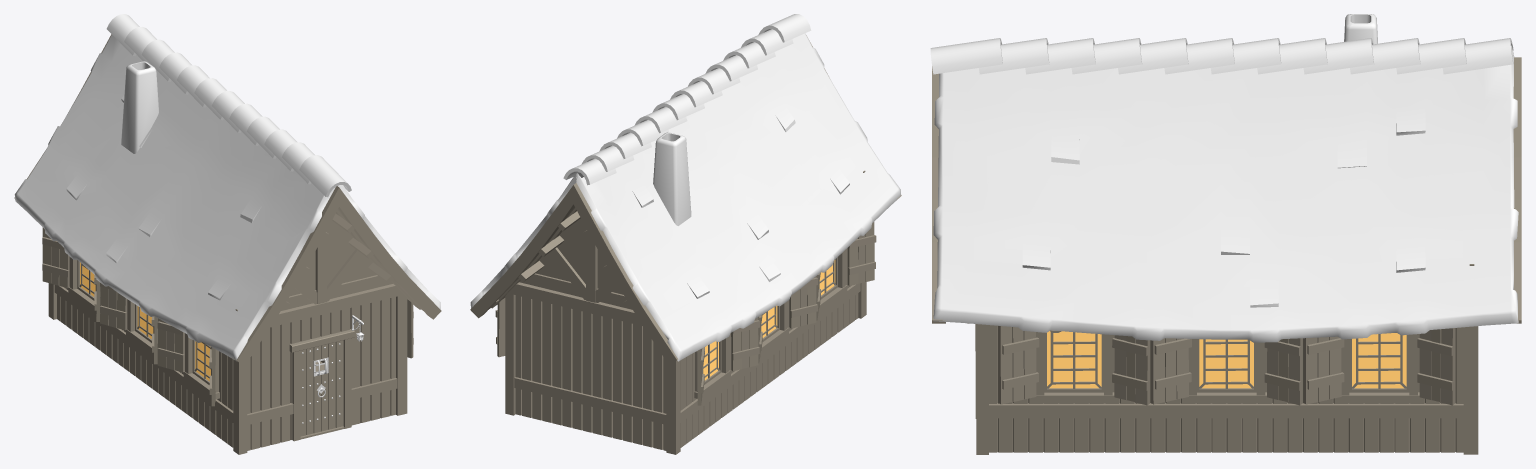
File: gibbetmere_vigil_house.glb
The picture shows the model from 3 angles, left to right: view 1: azimuth 30°, elevation 25°; view 2: azimuth 150°, elevation 25°; view 3: azimuth 270°, elevation 25°; orthographic projection. The views are drawn at different scales.
Visible parts, largest first — view 1: village/MI_FlatTiles, village/MI_WoodTrim_Wear, village/MI_WoodTrim, village/MI_RoundTiles, village/MI_UnevenBrick, village/MI_WindowGlass; view 2: village/MI_FlatTiles, village/MI_WoodTrim_Wear, village/MI_WoodTrim, village/MI_RoundTiles, village/MI_UnevenBrick, village/MI_WindowGlass; view 3: village/MI_FlatTiles, village/MI_WoodTrim_Wear, village/MI_RoundTiles, village/MI_WoodTrim, village/MI_WindowGlass, village/MI_UnevenBrick.
Part boxes in pixels (box(x1,y1,x2,y2)): village/MI_FlatTiles: box(14, 35, 440, 361); village/MI_WoodTrim_Wear: box(42, 227, 413, 450); village/MI_WoodTrim: box(14, 34, 441, 454); village/MI_RoundTiles: box(106, 14, 351, 197); village/MI_UnevenBrick: box(121, 61, 158, 153); village/MI_WindowGlass: box(80, 262, 210, 381); village/MI_FlatTiles: box(470, 33, 900, 361); village/MI_WoodTrim_Wear: box(495, 222, 876, 450); village/MI_WoodTrim: box(470, 35, 901, 454); village/MI_RoundTiles: box(563, 14, 811, 185); village/MI_UnevenBrick: box(653, 132, 691, 225); village/MI_WindowGlass: box(703, 260, 835, 380); village/MI_FlatTiles: box(933, 45, 1518, 342); village/MI_WoodTrim_Wear: box(989, 325, 1463, 452); village/MI_RoundTiles: box(930, 38, 1513, 74); village/MI_WoodTrim: box(932, 57, 1521, 454); village/MI_WindowGlass: box(1047, 331, 1406, 388); village/MI_UnevenBrick: box(1344, 14, 1377, 44).
Size of the model in its own units: 5.75 by 6.53 by 9.68.
